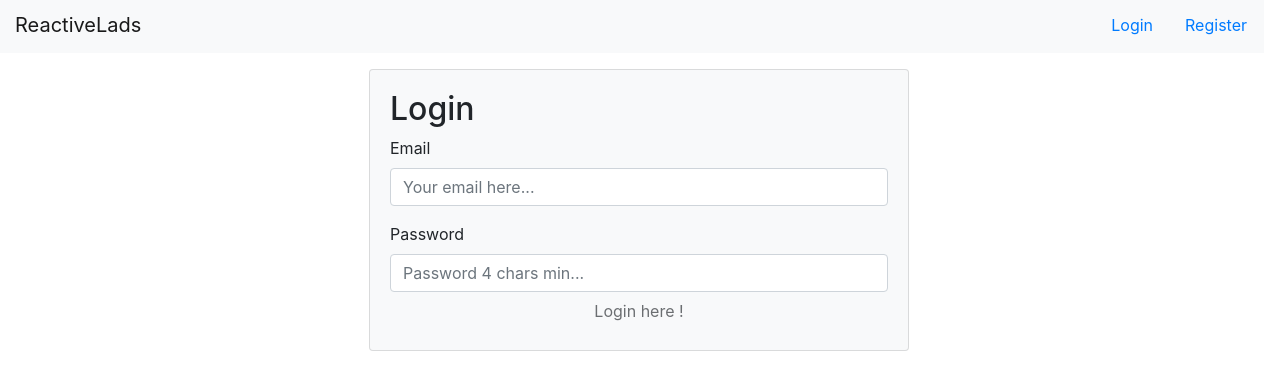
Test: <LoginForm/> e2e › Fields validation › Password field validation › should validate password min value
This screenshot has width=1264, height=392.
In the password field named "password": coordinates (639, 273) top-left (390, 254), bottom-right (888, 292), type "12"
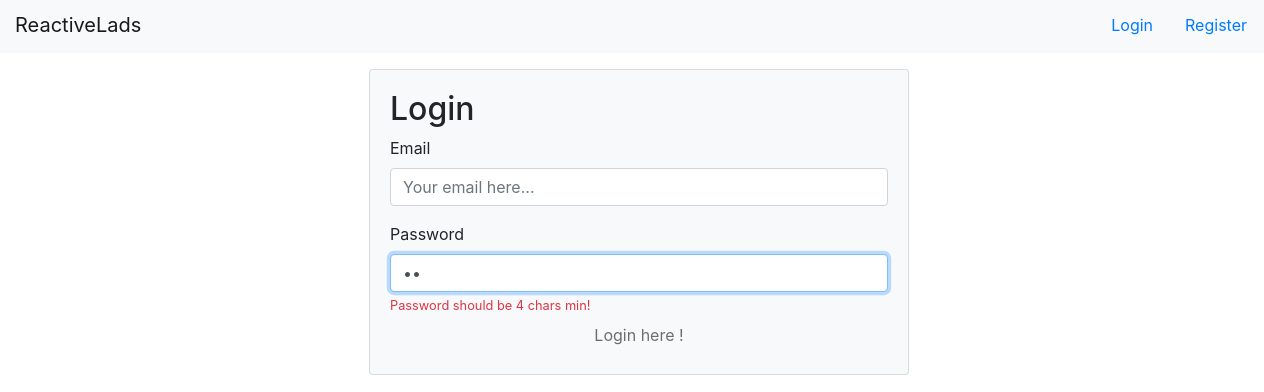
Now the text "Password should be 4 chars min!" is shown, box top-left (390, 298), bottom-right (590, 313)
